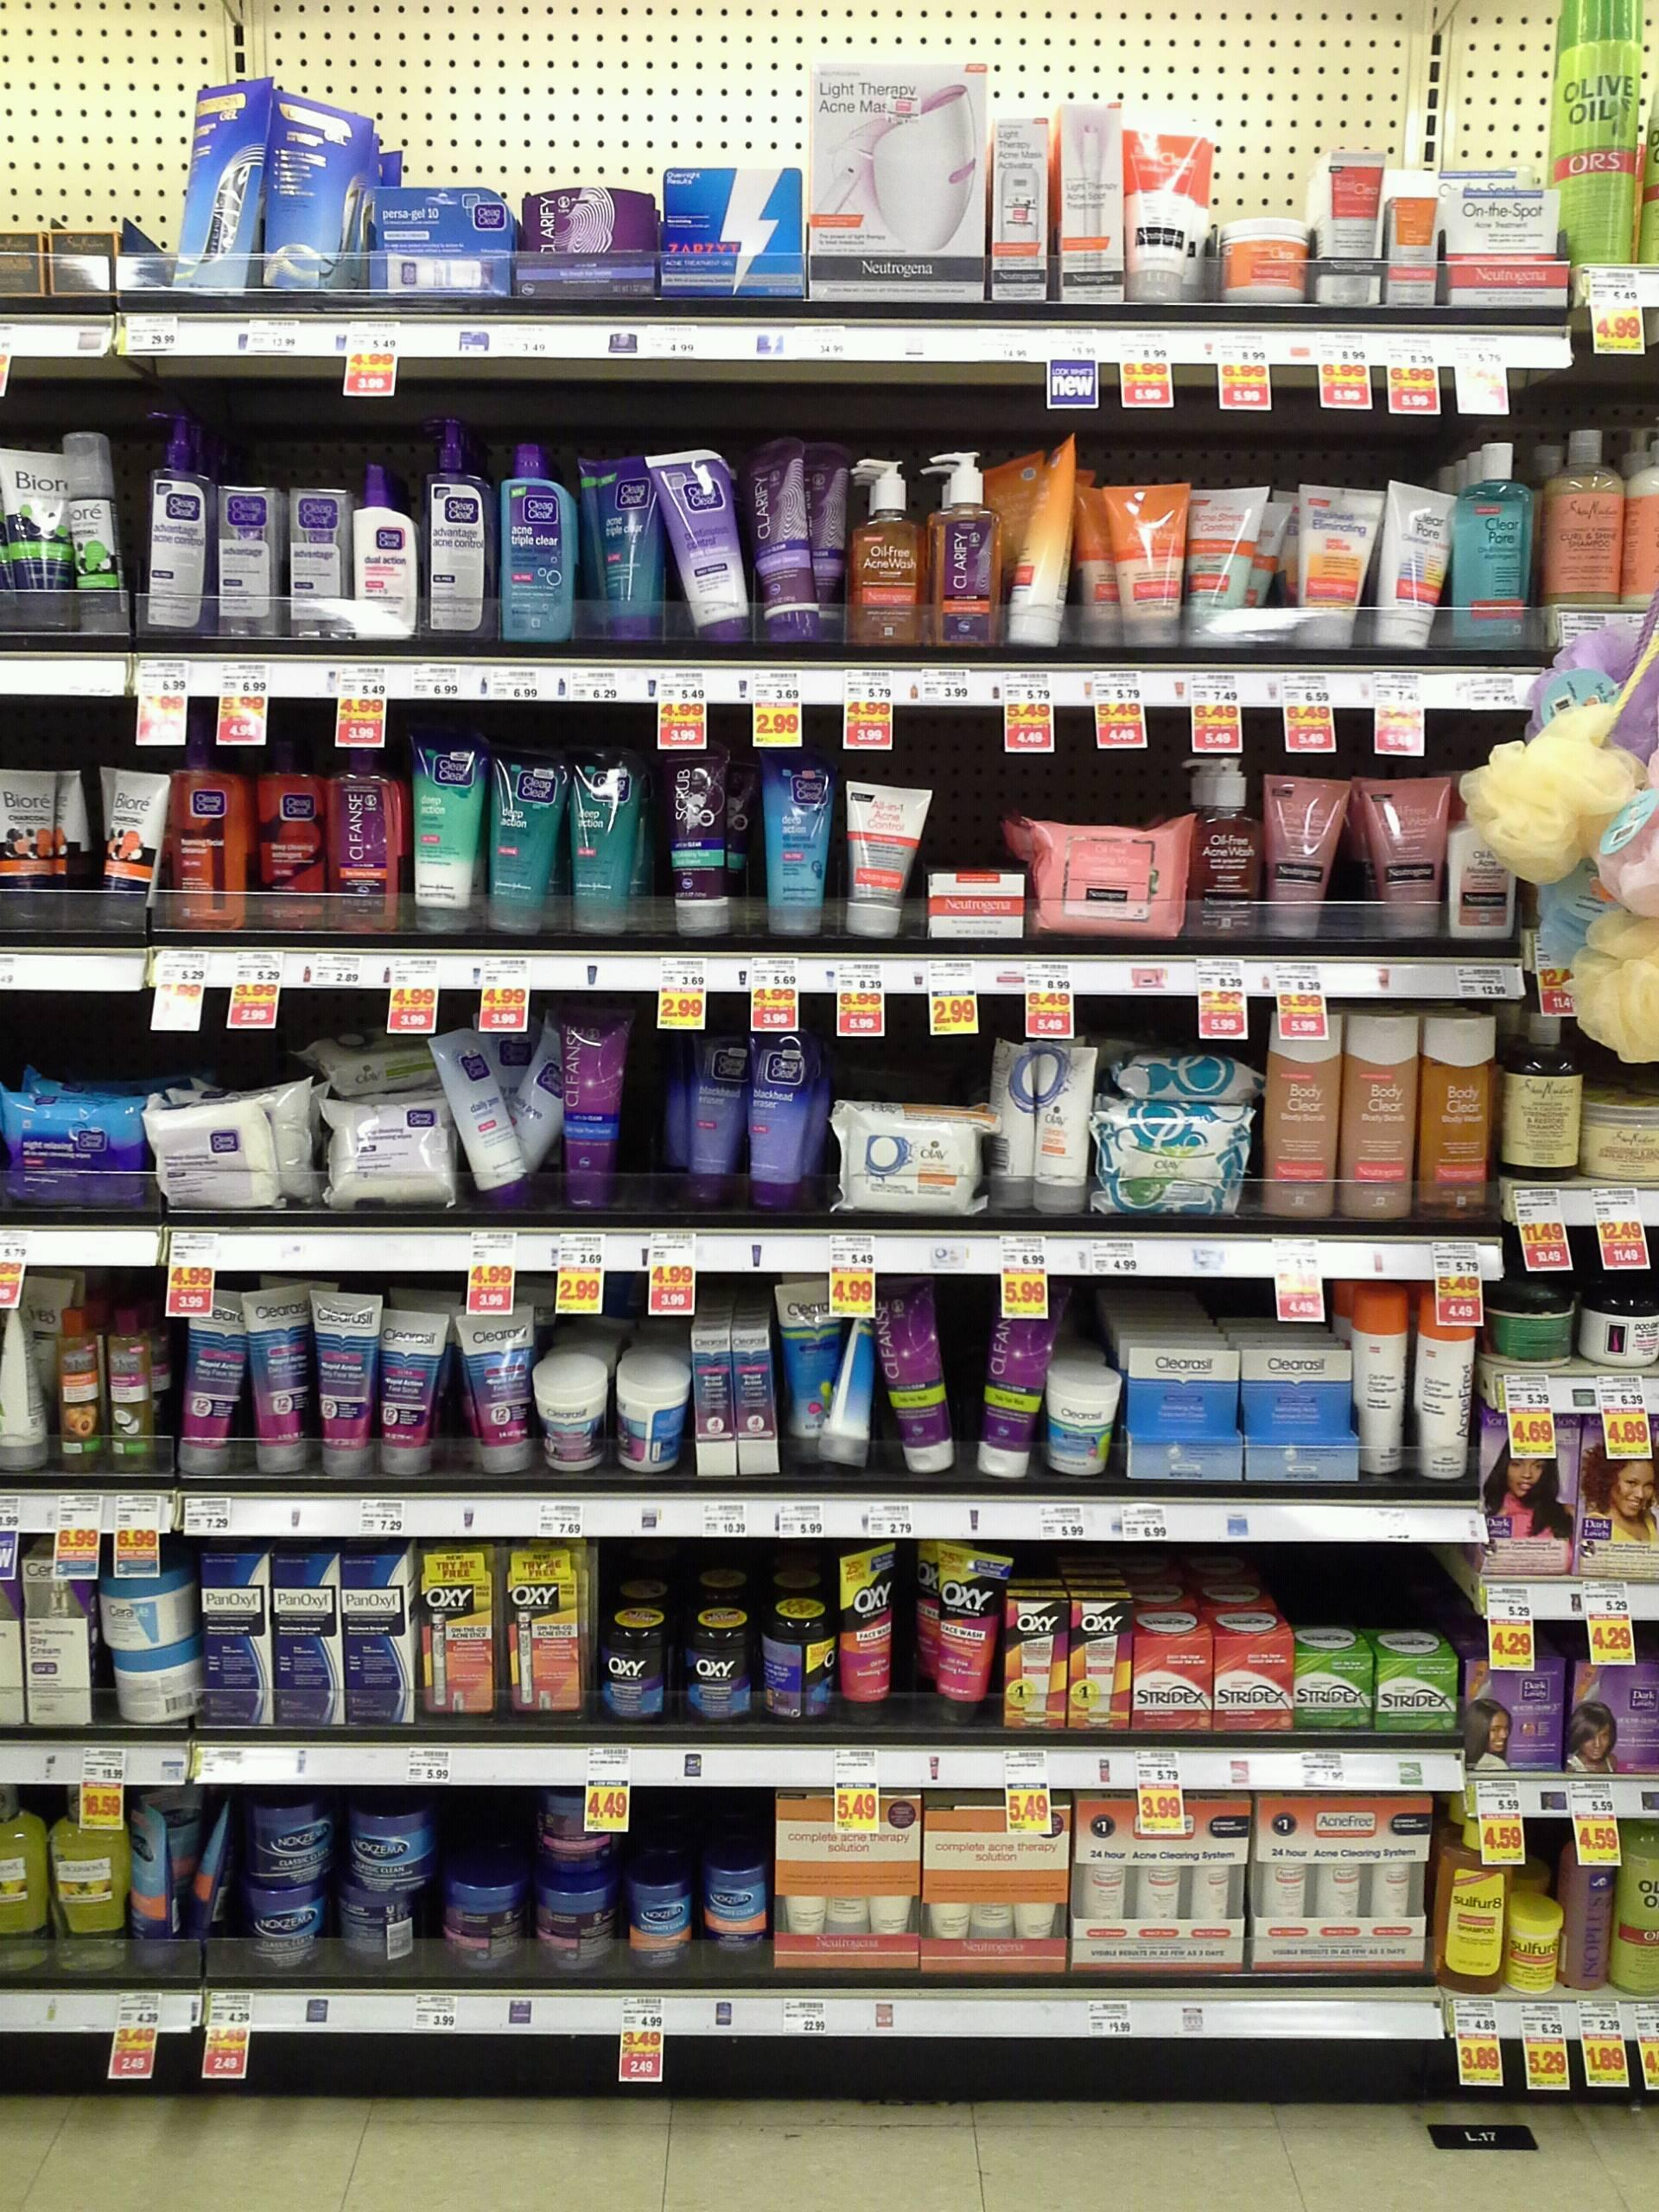misalignment: (436, 995, 558, 1214), (131, 1789, 244, 1989), (662, 449, 751, 650), (877, 1282, 964, 1484), (1016, 442, 1084, 655), (89, 761, 162, 930), (838, 1550, 904, 1730), (293, 1026, 441, 1092)
